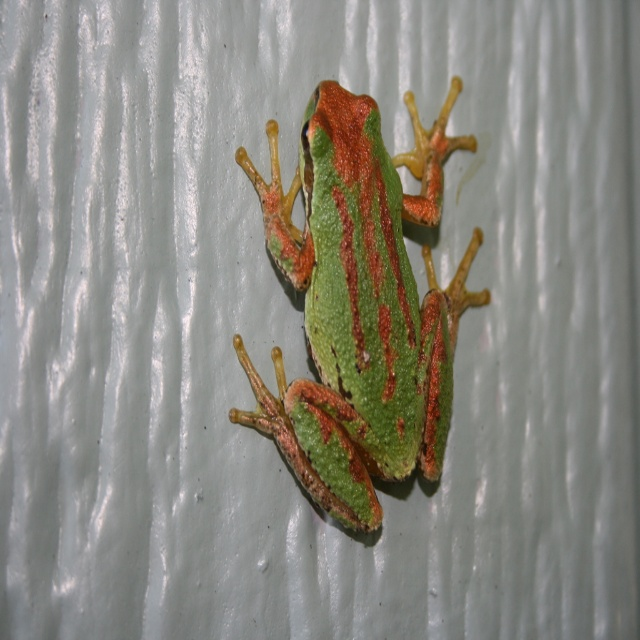Frog: (228, 74, 490, 538)
